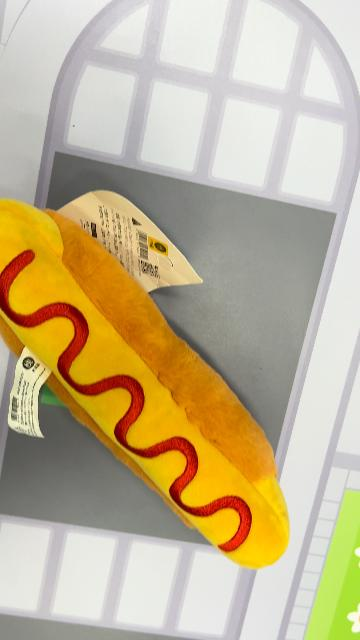hotdog: (1, 198, 291, 570)
